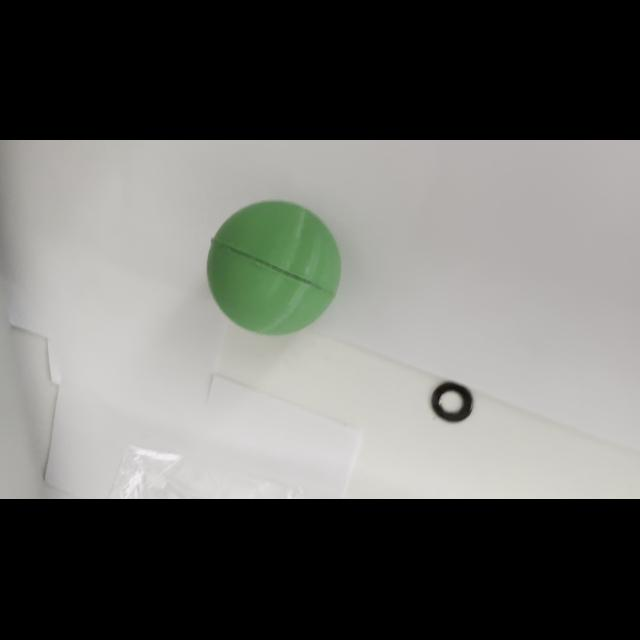objects: (202, 196, 348, 340)
